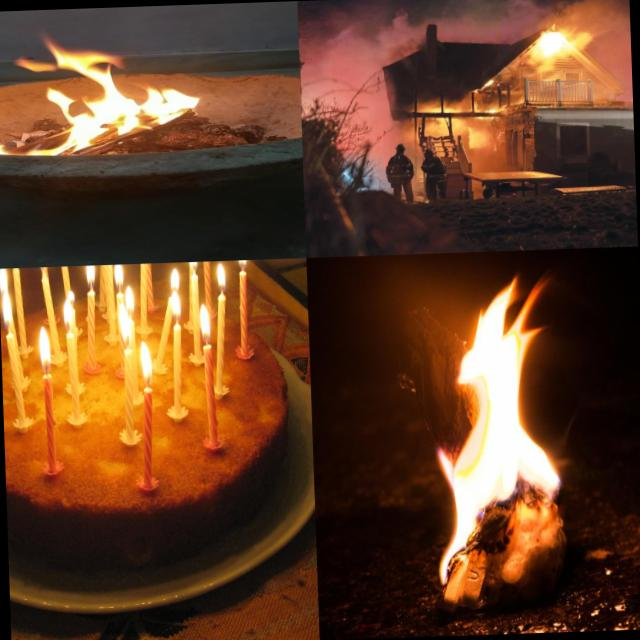fire: (424, 268, 571, 582), (0, 18, 191, 157), (537, 14, 587, 54), (114, 264, 136, 342), (0, 267, 16, 338), (36, 312, 54, 374), (137, 334, 158, 384), (166, 266, 183, 324), (60, 288, 78, 334), (198, 297, 212, 341), (214, 260, 228, 296), (84, 265, 98, 286), (183, 262, 200, 276), (36, 266, 51, 278), (234, 260, 249, 268)
smoke: (297, 0, 539, 80)
